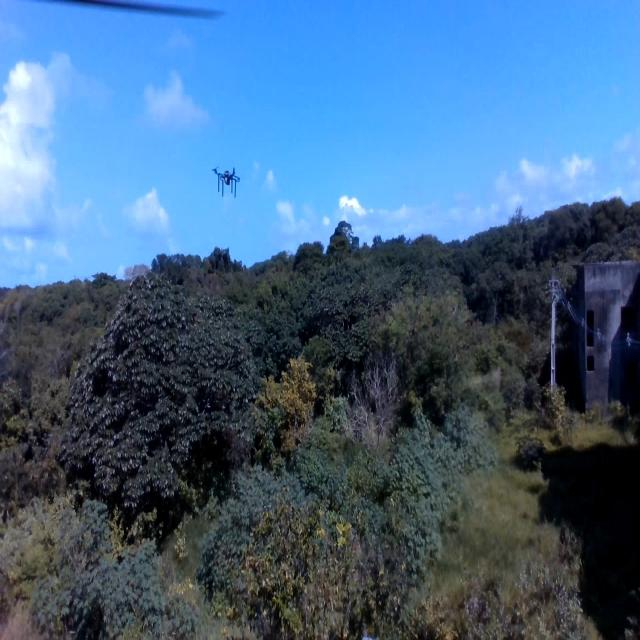-uav-: (208, 156, 246, 204)
